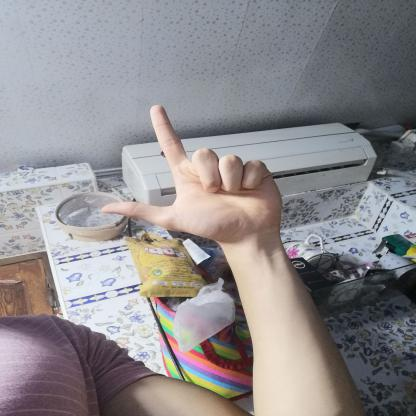LAAM: (83, 94, 300, 256)
